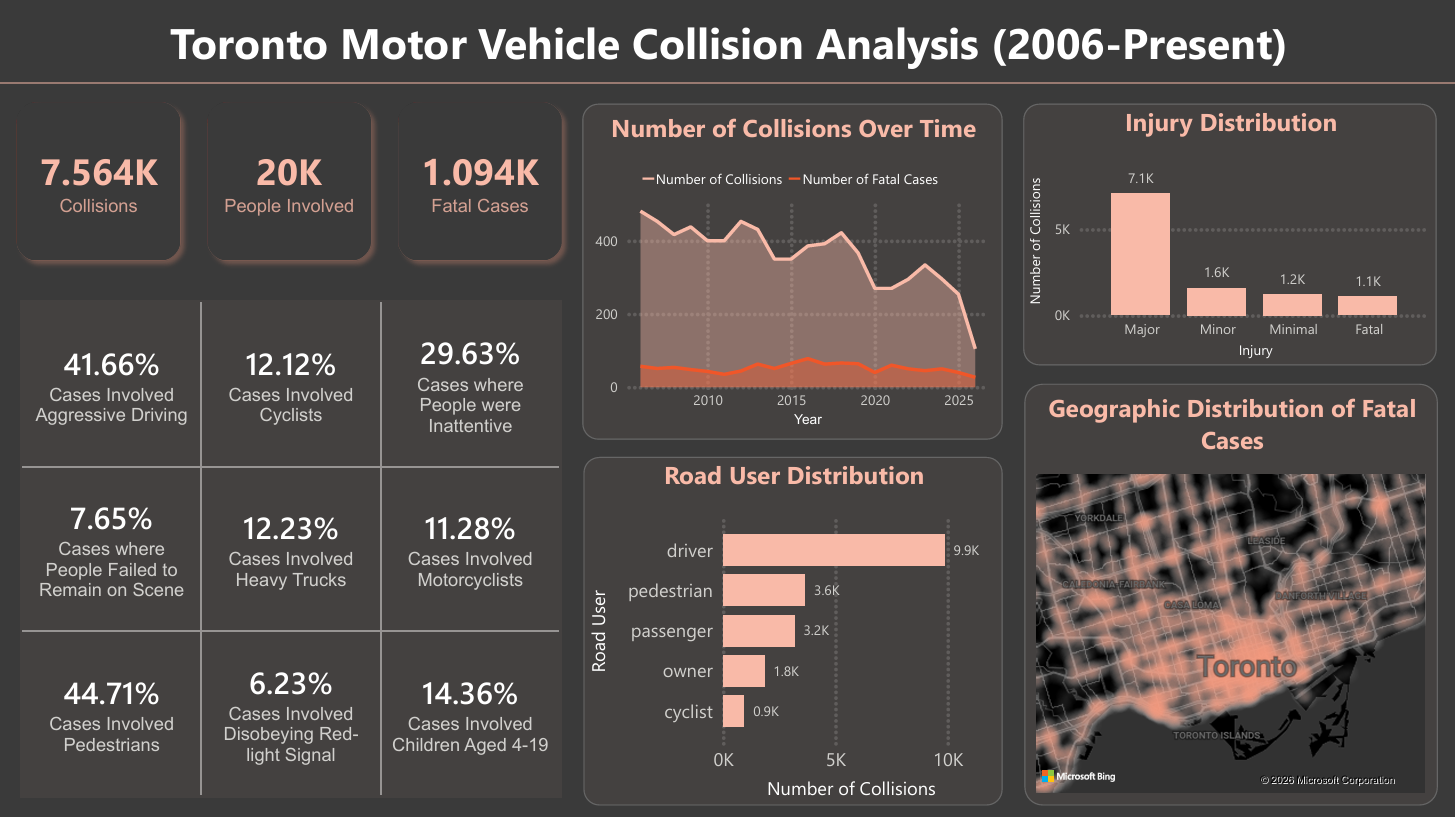

Layout of this report page (visuals, bound fields, positions):
{"tool":"powerbi","page":{"name":"Page 1","canvas":[1280,720],"ordinal":0},"visuals":[{"type":"cardVisual","fields":{"Data":["Count(public collision.collision_id)","Sum(public collision.per_inv)","CountNonNull(public person.fatal_no)"]},"box":[0,74.2,511.8,172.6],"z":0},{"type":"cardVisual","fields":{"Data":["Avg(public collision.aggressive)","Avg(public collision.cyclist)","Avg(public collision.distracted)","Avg(public collision.failtorem)","Avg(public collision.heavy_truck)","Avg(public collision.motorcyclist)","Avg(public collision.pedestrian)","Avg(public collision.red_light)","Avg(public collision.school_child)"]},"box":[15.1,258.9,484.5,446.7],"z":1000},{"type":"columnChart","title":"Injury Distribution","fields":{"Category":["public person.injury"],"Y":["CountNonNull(public person.collision_id)"]},"box":[897.9,92.4,361.9,228.6],"z":2000},{"type":"areaChart","title":"Number of Collisions Over Time","fields":{"Category":["public collision.accdate.Variation.Date Hierarchy.Year","public collision.accdate.Variation.Date Hierarchy.Quarter","public collision.accdate.Variation.Date Hierarchy.Month","public collision.accdate.Variation.Date Hierarchy.Day"],"Y":["CountNonNull(public collision.collision_id)","CountNonNull(public person.fatal_no)"]},"box":[511.8,92.4,368,293.8],"z":3000},{"type":"map","title":"Geographic Distribution of Fatal Cases","fields":{"Y":["public collision.latitude"],"X":["public collision.longitude"],"Size":["Count(public person.fatal_no)"]},"box":[898.9,336.6,362.3,369],"z":4000},{"type":"shape","box":[0,0,1281,74.2],"z":5000},{"type":"clusteredBarChart","title":"Road User Distribution","fields":{"Y":["CountNonNull(public person.collision_id)"],"Category":["public person.road_user"]},"box":[513.3,401.3,366.4,304.4],"z":6000}]}

Visuals, with their boxes in screenshot pixels (x1, y1, x2, y2), scaled from the page's 1280x720 canvas onto the 1455x817 screenshot:
cardVisual - Count(public collision.collision_id) x Sum(public collision.per_inv): pyautogui.locateOnScreen(0, 84, 582, 280)
cardVisual - Avg(public collision.aggressive) x Avg(public collision.cyclist): pyautogui.locateOnScreen(17, 294, 568, 801)
"Injury Distribution" columnChart: pyautogui.locateOnScreen(1021, 105, 1432, 364)
"Number of Collisions Over Time" areaChart: pyautogui.locateOnScreen(582, 105, 1000, 438)
"Geographic Distribution of Fatal Cases" map: pyautogui.locateOnScreen(1022, 382, 1434, 801)
shape: pyautogui.locateOnScreen(0, 0, 1454, 84)
"Road User Distribution" clusteredBarChart: pyautogui.locateOnScreen(583, 455, 1000, 801)
